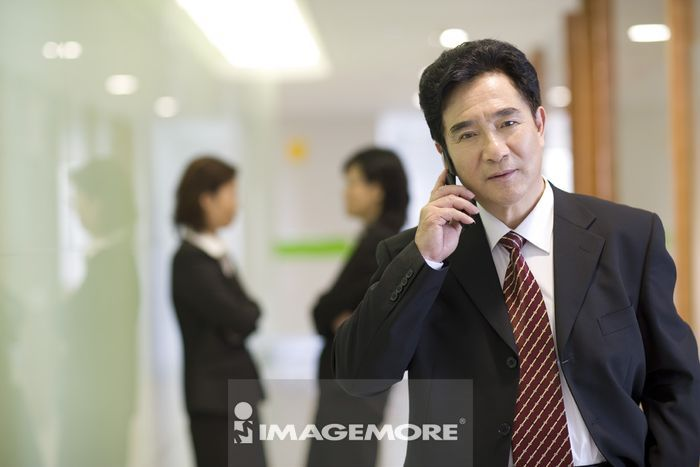phone: (441, 148, 461, 226)
talk: (418, 104, 535, 260)
